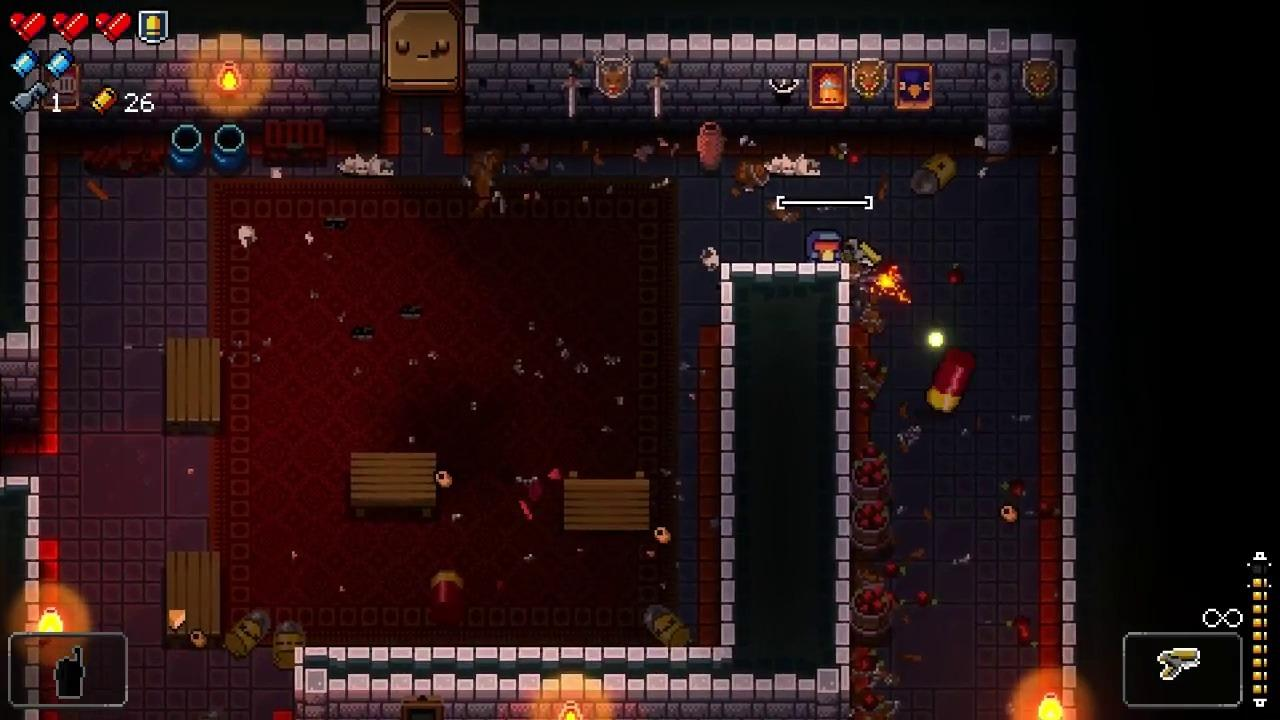dead_bullet_kin: (221, 607, 272, 660), (910, 150, 957, 196), (642, 604, 692, 646), (272, 620, 305, 670)
dead_red_shotgun_kin: (429, 569, 464, 625)
locked_door: (381, 0, 465, 95)
player: (806, 229, 842, 262)
red_shotgun_kin: (928, 345, 974, 413)
table: (351, 453, 436, 517), (166, 553, 221, 651), (563, 471, 649, 530), (168, 337, 220, 433)
